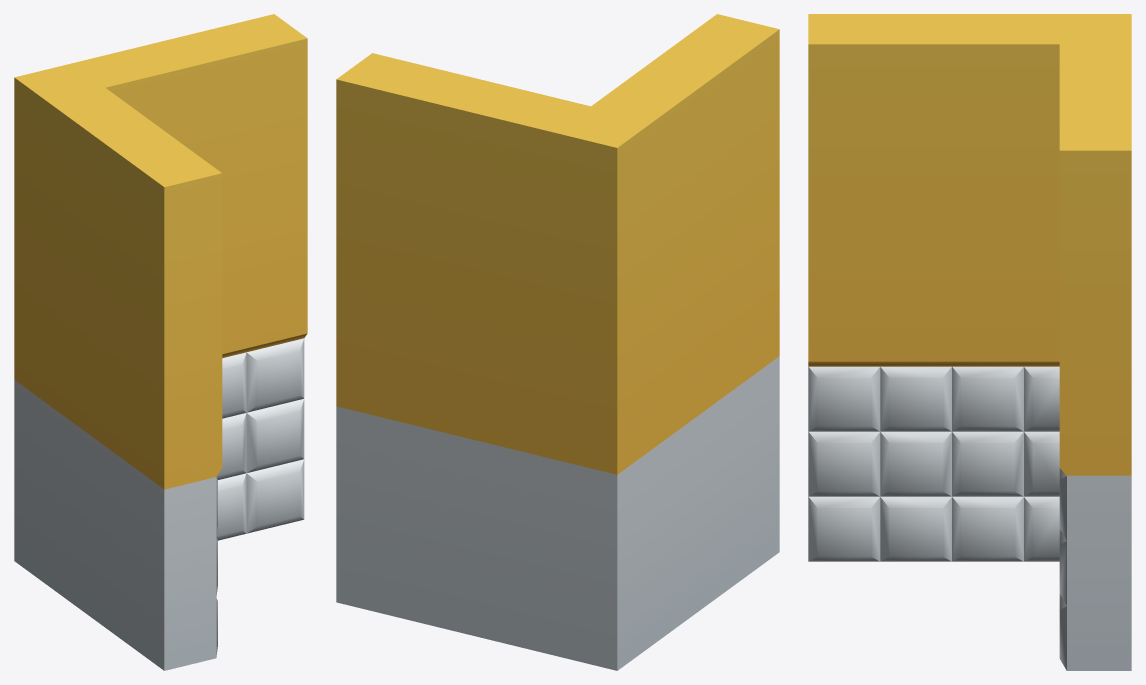
File: Wall Tiled Corner In.glb
The picture shows the model from 3 angles, left to right: view 1: azimuth 30°, elevation 25°; view 2: azimuth 150°, elevation 25°; view 3: azimuth 270°, elevation 25°; orthographic projection. The views are drawn at different scales.
Visible parts, largest first — view 1: wall_tiled_corner_inner; view 2: wall_tiled_corner_inner; view 3: wall_tiled_corner_inner.
Boxes of the visible parts, box(x1,y1,x2,y2) form: wall_tiled_corner_inner: box(14, 14, 307, 670); wall_tiled_corner_inner: box(336, 14, 779, 670); wall_tiled_corner_inner: box(808, 14, 1131, 670).
Size of the model in its own units: 2.25 by 4 by 2.25.
Materials: 1 (1 with a texture image).
